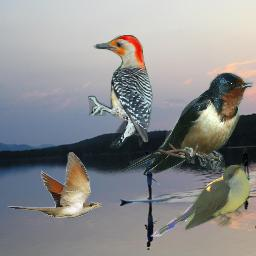Cuckoo: (149, 165, 250, 237), (7, 152, 102, 218)
Swallow: (124, 72, 253, 174)
Woodpecker: (88, 35, 155, 149)
